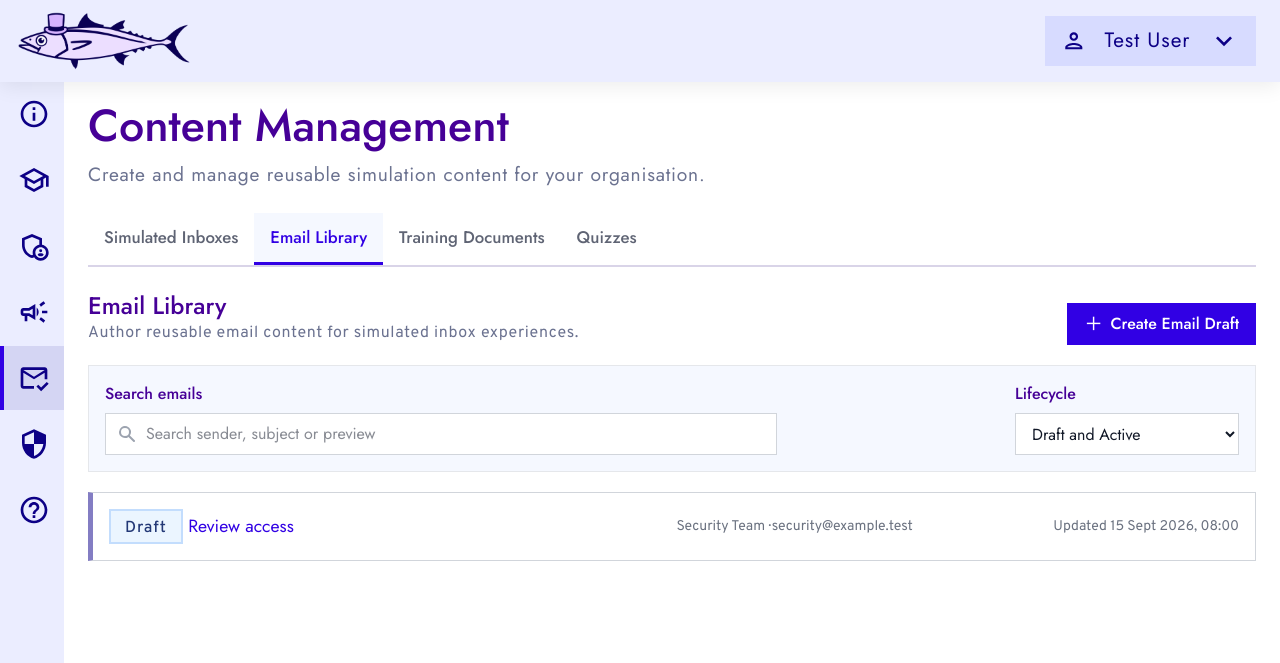
Test: OrganisationContentManagementPage Email Library › activates a Draft through the accessible confirmation modal
This screenshot has width=1280, height=663.
Click the button "Review access" at coordinates (146, 526), box [88,492,1256,560]
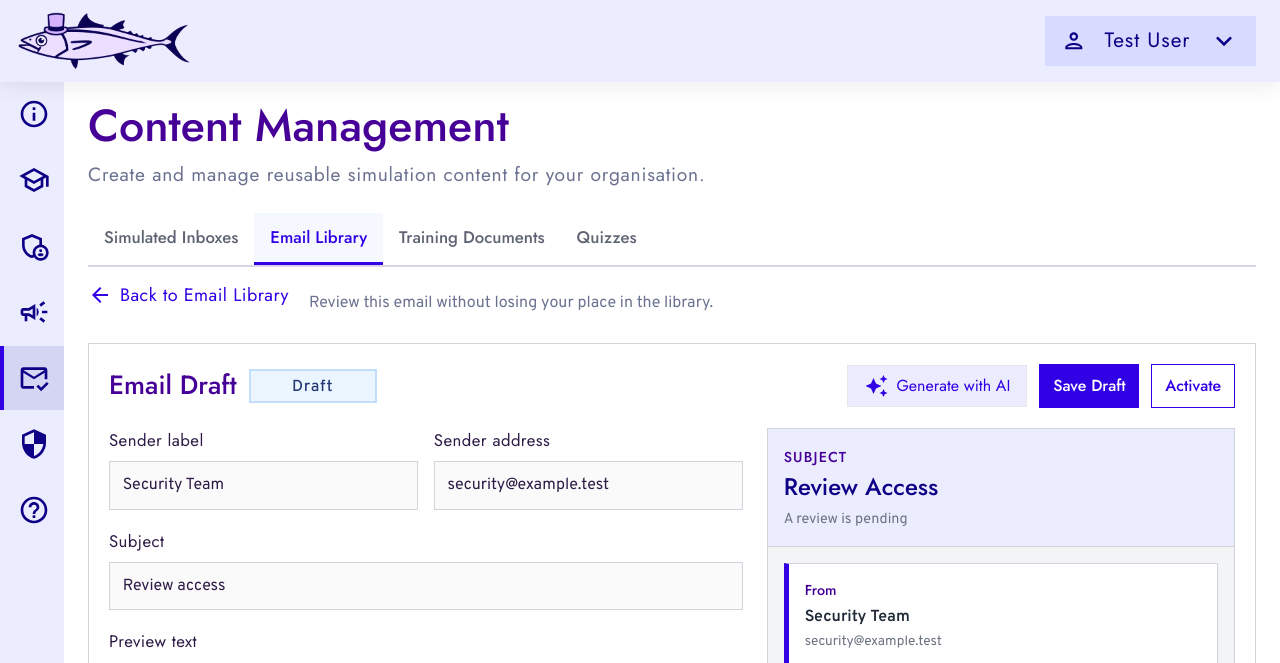
Click the button "Activate" at coordinates (1193, 386), box [1151,364,1235,408]
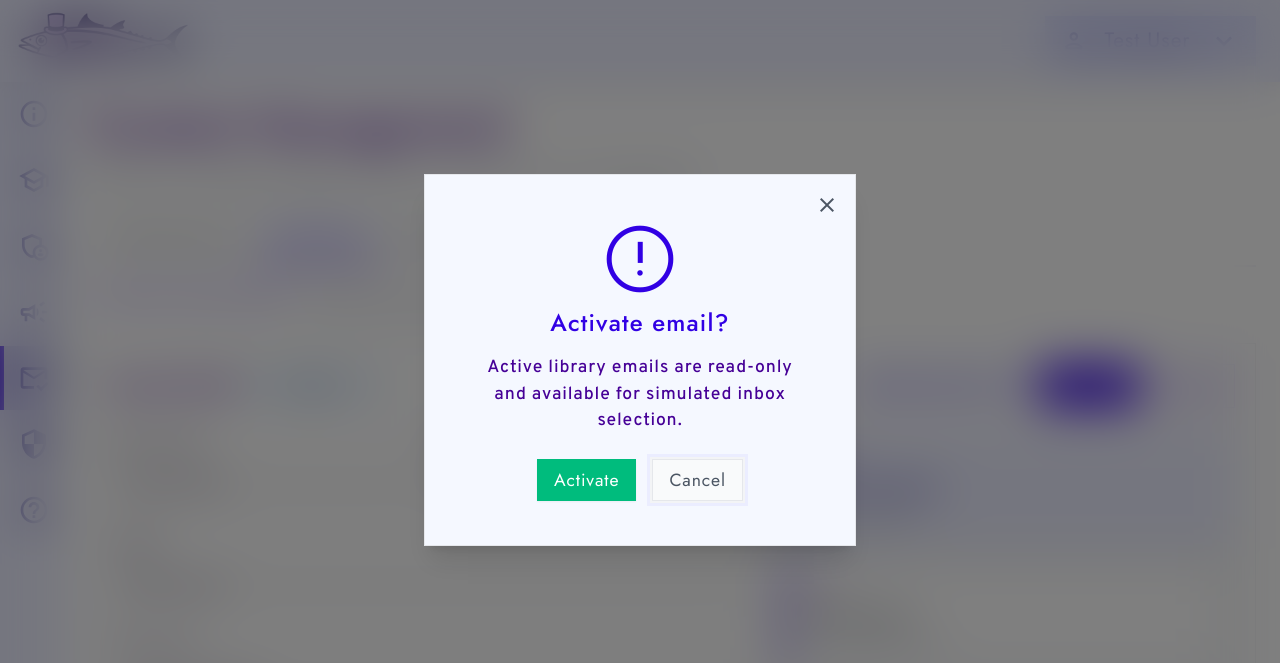
Click the button "Activate" at coordinates (587, 480), box [537,459,636,501]
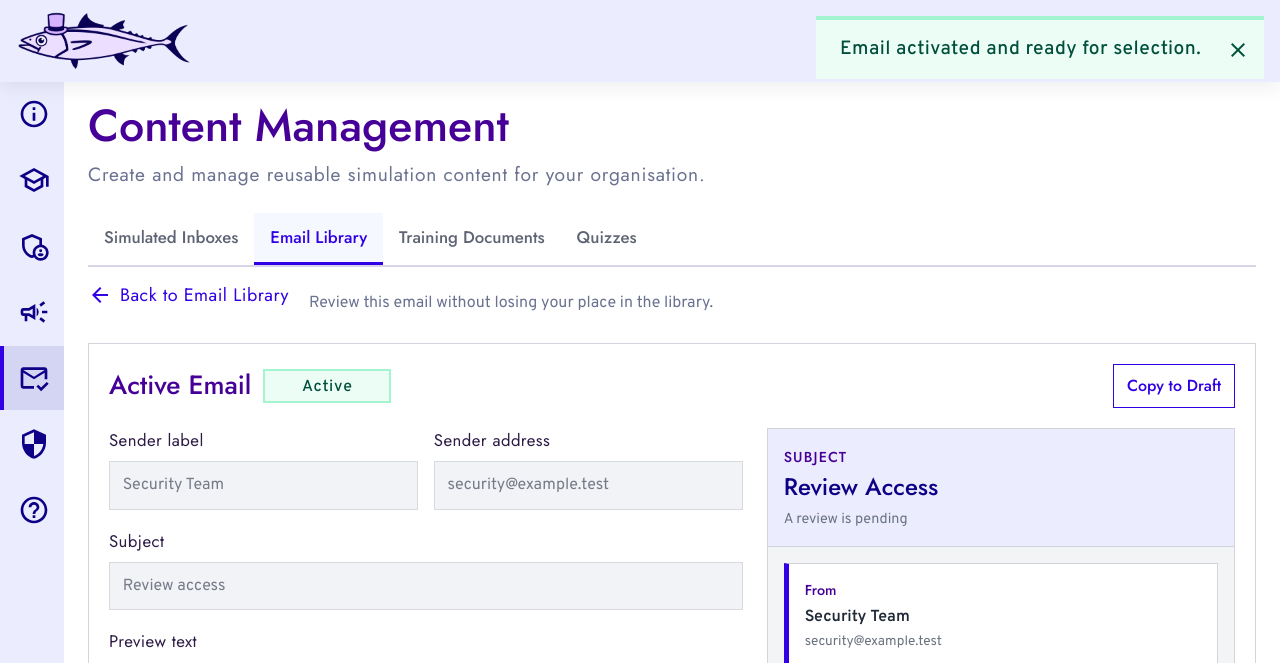
Check: the text "Email activated and ready for selection." is shown, box [840,36,1201,63]
Check: the field labelled "Subject" is disabled, box [109,562,743,610]
